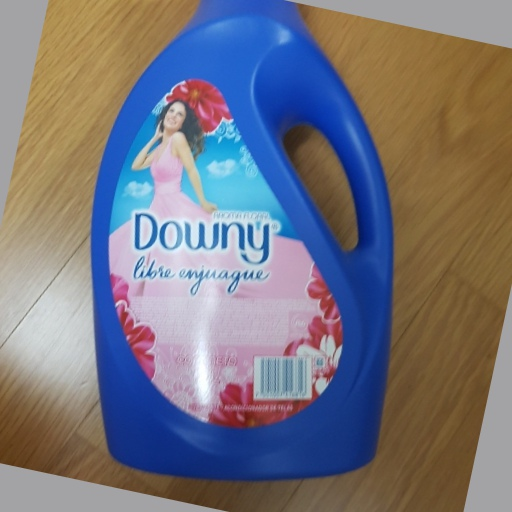Plastic_1: (92, 1, 396, 480)
